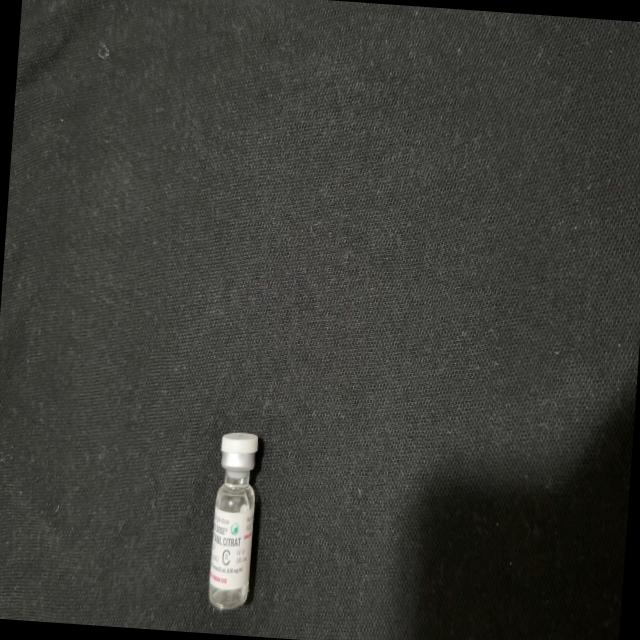fentanl_citrat: (208, 434, 260, 608)
